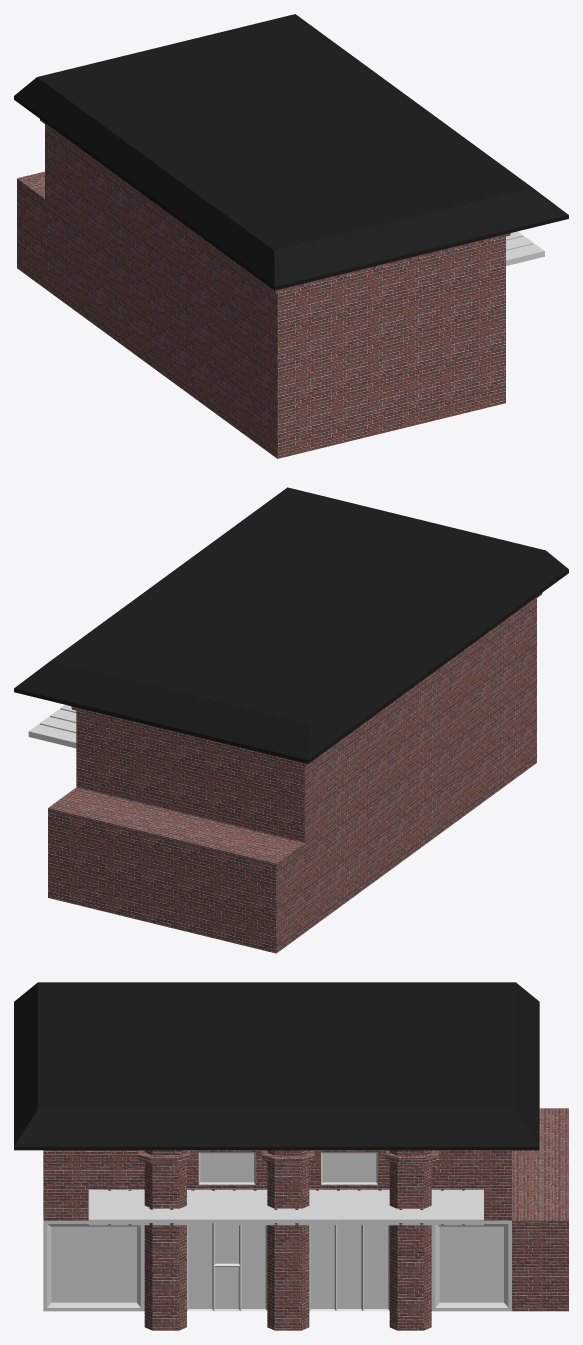
The model's file is supermarket.fbx.
3 views of the same model, one above another, from view 1: azimuth 30°, elevation 25°; view 2: azimuth 150°, elevation 25°; view 3: azimuth 270°, elevation 25° (orthographic).
Visible parts, largest first — view 1: Cube, Cube.001; view 2: Cube, Cube.001; view 3: Cube, Cube.001.
Boxes of the visible parts, left/top/right/bottom form: Cube: left=14, top=14, right=568, bottom=458; Cube.001: left=506, top=231, right=544, bottom=265; Cube: left=14, top=487, right=568, bottom=953; Cube.001: left=28, top=704, right=76, bottom=748; Cube: left=14, top=982, right=568, bottom=1330; Cube.001: left=88, top=1189, right=483, bottom=1225.
Size of the model in its own units: 537 by 354 by 834.
